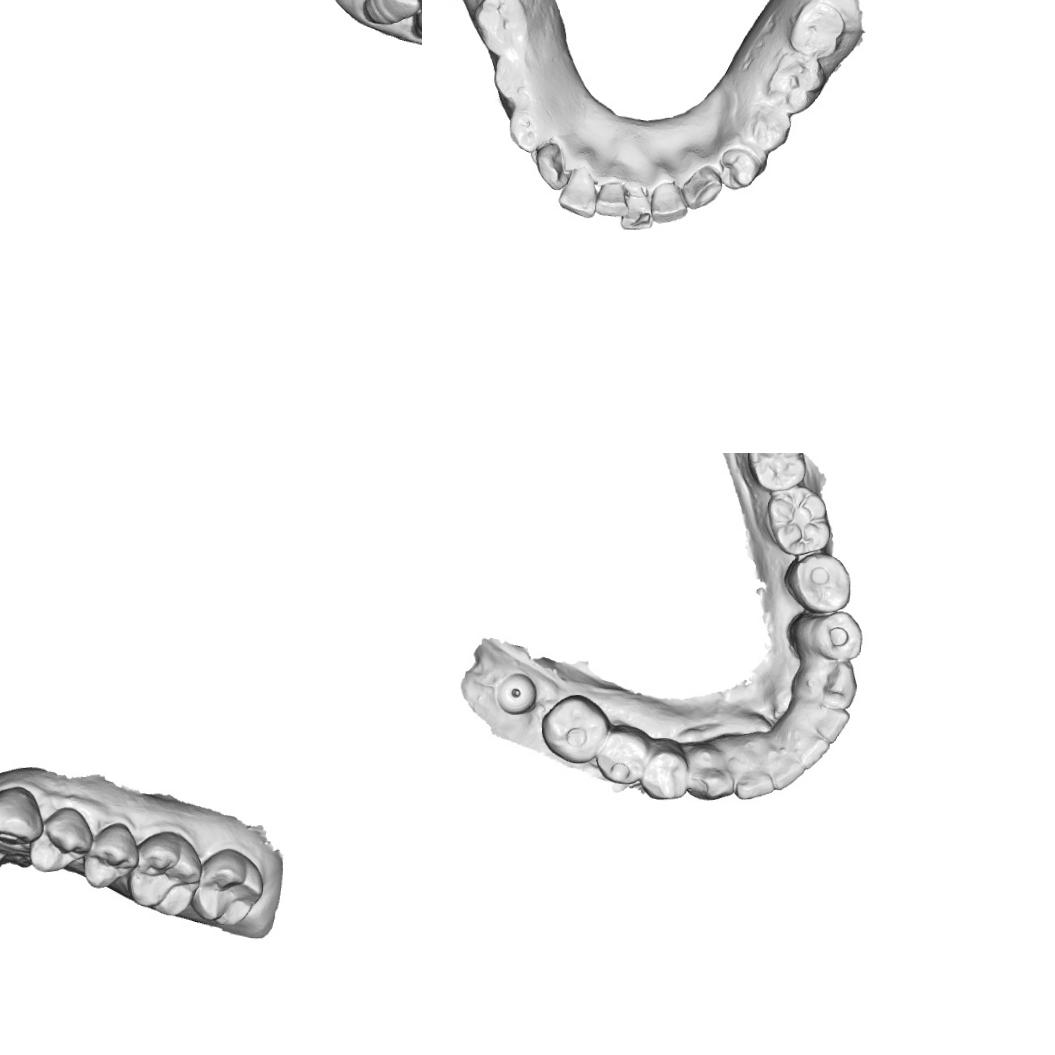canine: (800, 658, 856, 712), (685, 744, 735, 800), (0, 786, 43, 845), (678, 165, 724, 211), (530, 141, 570, 193), (360, 0, 422, 28)
implant: (496, 669, 538, 718)
incisor: (556, 163, 602, 221), (806, 702, 852, 746), (618, 179, 654, 234), (649, 180, 690, 226), (768, 747, 809, 792), (734, 761, 775, 802), (792, 730, 832, 770), (592, 178, 630, 220)
molar: (124, 830, 204, 919), (190, 846, 264, 930), (539, 692, 606, 764), (765, 487, 829, 556), (762, 50, 827, 116), (785, 0, 849, 61), (469, 0, 533, 58), (743, 453, 812, 496)
premolar: (29, 804, 94, 878), (80, 818, 138, 890), (799, 608, 868, 666), (788, 552, 853, 613), (596, 724, 652, 792), (641, 744, 690, 800), (746, 104, 794, 156), (715, 144, 763, 194), (505, 102, 550, 154), (490, 56, 535, 104)
